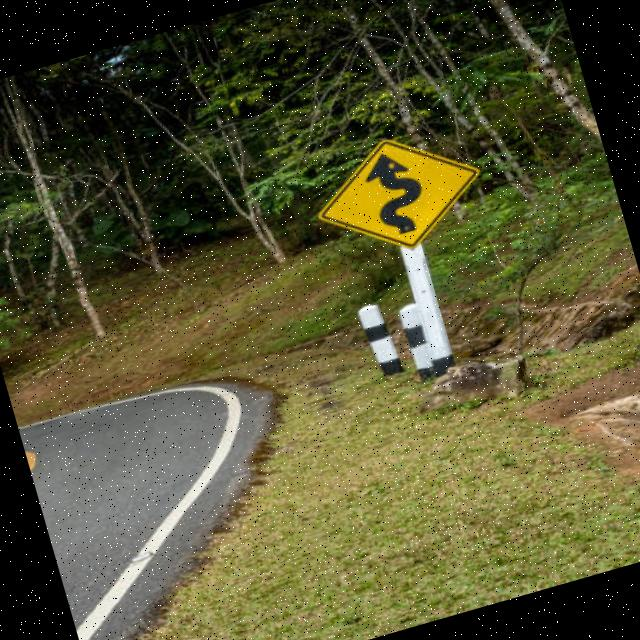left_sharp_curve: (303, 104, 512, 286)
